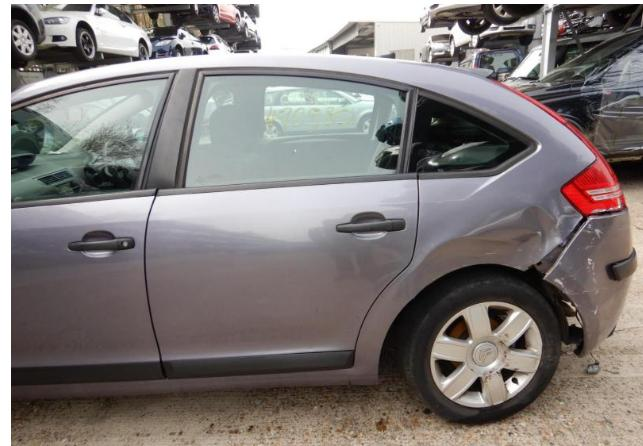Back-bumper: (543, 207, 637, 357)
Back-door: (144, 70, 419, 379)
Back-wheel: (399, 271, 560, 424)
Back-window: (185, 73, 408, 188), (412, 97, 525, 171)
Back-windshield: (493, 83, 606, 159)
Front-door: (11, 73, 175, 385)
Front-window: (11, 78, 168, 202)
Quarter-panel: (354, 146, 599, 367)
Rocker-panel: (12, 365, 379, 402)
Roof: (12, 53, 494, 97)
Tail-light: (560, 156, 626, 217)
